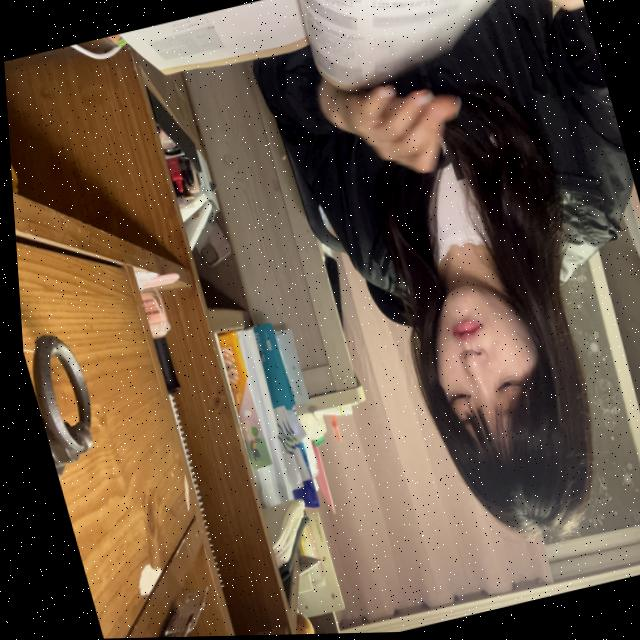studying-person: (71, 0, 640, 627)
